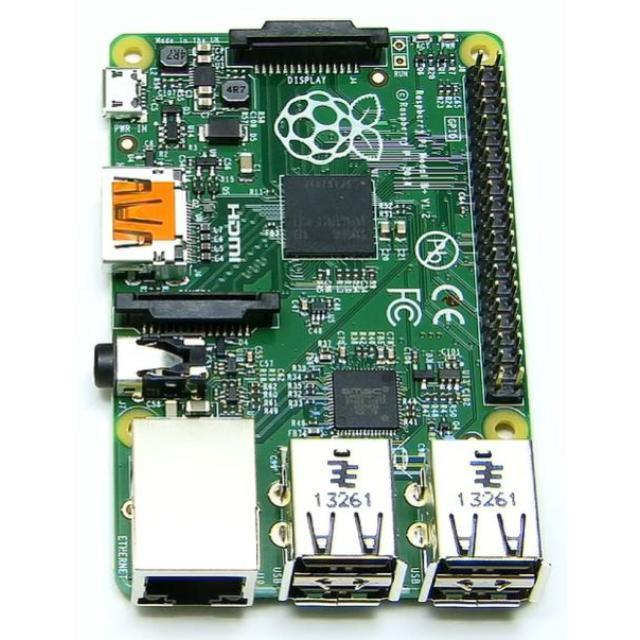Raspberry Pi 1 B-: (95, 21, 548, 610)
